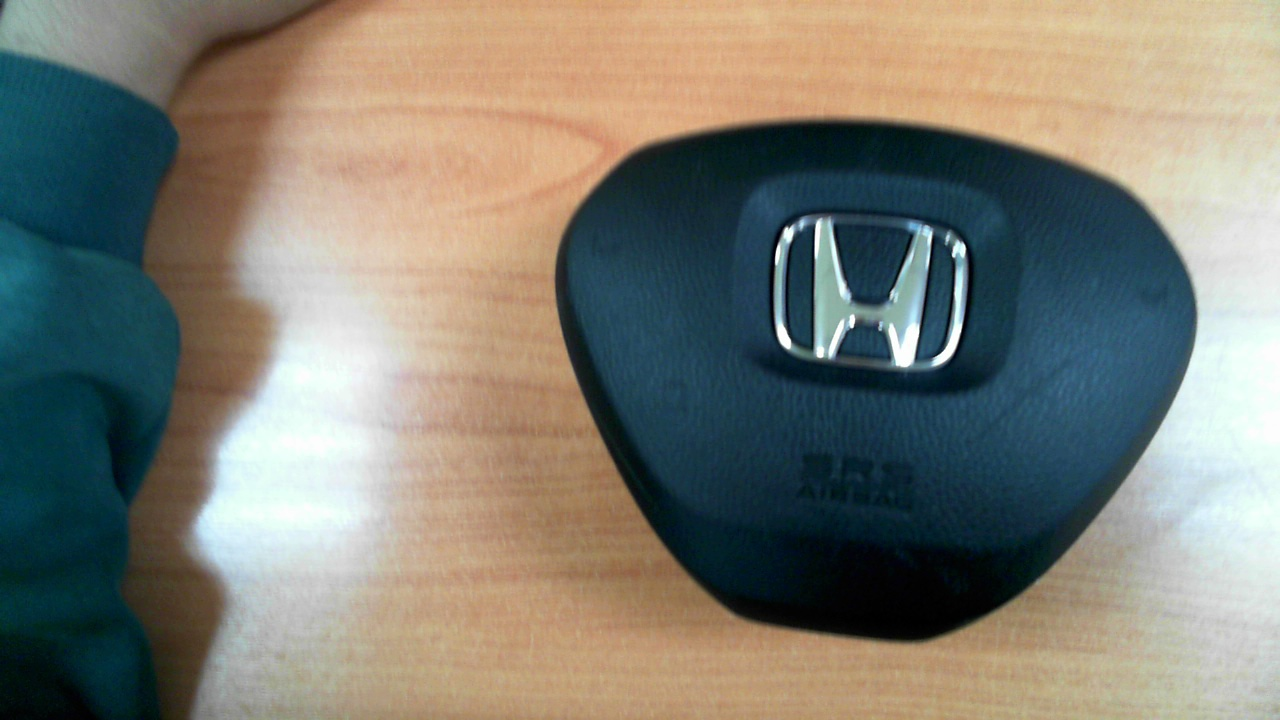Airbag: (554, 119, 1198, 644)
Honda: (769, 212, 968, 372)
